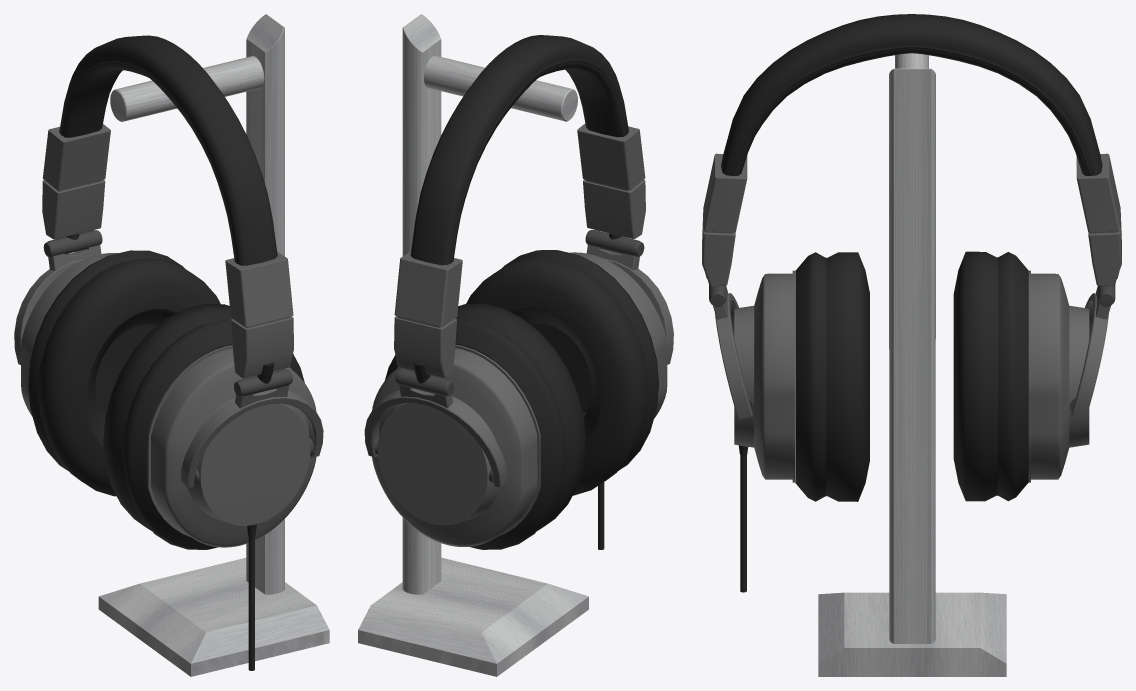
The model's file is maya2sketchfab.fbx.
The picture shows the model from 3 angles, left to right: view 1: azimuth 30°, elevation 25°; view 2: azimuth 150°, elevation 25°; view 3: azimuth 270°, elevation 25°; orthographic projection. The views are drawn at different scales.
Parts seen in each view (by area): view 1: pCylinder4, pasted__pCylinder8, pCube6, pasted__pCube5, pasted__pasted__pCylinder8, pCube4, pCube9, pasted__pCube9, pCylinder13, pasted__pCube8, pasted__pCylinder4, pasted__pasted__pCube8 (+5 smaller); view 2: pasted__pCylinder4, pasted__pasted__pCylinder8, pCube6, pasted__pCube5, pasted__pCylinder8, pCube4, pasted__pCube9, pCube9, pCylinder13, pasted__pasted__pCube8, pCylinder4, pasted__pCube8 (+4 smaller); view 3: pCube4, pasted__pCylinder8, pasted__pasted__pCylinder8, pasted__pCube5, pCube6, pasted__pCylinder4, pCylinder4, pasted__pCube9, pCube9, pasted__pasted__pCube8, pasted__pCube8, pCylinder15.
Boxes of the visible parts, x1=… form: pCylinder4: x1=147, y1=345, x2=316, y2=547; pasted__pCylinder8: x1=28, y1=250, x2=220, y2=496; pCube6: x1=98, y1=557, x2=329, y2=676; pasted__pCube5: x1=59, y1=35, x2=277, y2=265; pasted__pasted__pCylinder8: x1=103, y1=304, x2=304, y2=549; pCube4: x1=246, y1=14, x2=284, y2=594; pCube9: x1=225, y1=252, x2=293, y2=378; pasted__pCube9: x1=42, y1=124, x2=110, y2=239; pCylinder13: x1=110, y1=56, x2=264, y2=121; pasted__pCube8: x1=181, y1=391, x2=323, y2=487; pasted__pCylinder4: x1=21, y1=253, x2=117, y2=416; pasted__pasted__pCube8: x1=14, y1=258, x2=85, y2=364; pasted__pCylinder4: x1=372, y1=344, x2=540, y2=546; pasted__pasted__pCylinder8: x1=466, y1=250, x2=658, y2=495; pCube6: x1=358, y1=557, x2=588, y2=676; pasted__pCube5: x1=410, y1=35, x2=628, y2=265; pasted__pCylinder8: x1=385, y1=303, x2=585, y2=549; pCube4: x1=402, y1=14, x2=441, y2=594; pasted__pCube9: x1=394, y1=251, x2=462, y2=378; pCube9: x1=577, y1=123, x2=645, y2=238; pCylinder13: x1=424, y1=55, x2=577, y2=121; pasted__pasted__pCube8: x1=364, y1=390, x2=506, y2=487; pCylinder4: x1=569, y1=252, x2=667, y2=418; pasted__pCube8: x1=603, y1=258, x2=673, y2=364; pCube4: x1=889, y1=68, x2=935, y2=643; pasted__pCylinder8: x1=953, y1=251, x2=1028, y2=501; pasted__pasted__pCylinder8: x1=795, y1=252, x2=869, y2=501; pasted__pCube5: x1=721, y1=14, x2=1102, y2=176; pCube6: x1=818, y1=592, x2=1006, y2=676; pasted__pCylinder4: x1=1028, y1=270, x2=1089, y2=482; pCylinder4: x1=734, y1=270, x2=794, y2=482; pasted__pCube9: x1=1076, y1=153, x2=1121, y2=286; pCube9: x1=702, y1=153, x2=747, y2=286; pasted__pasted__pCube8: x1=1071, y1=293, x2=1108, y2=419; pasted__pCube8: x1=715, y1=293, x2=752, y2=419; pCylinder15: x1=738, y1=445, x2=748, y2=592.
Bounding box in the file's own units: 1.41 × 3.82 × 2.41.
9 materials, 1 textured.
